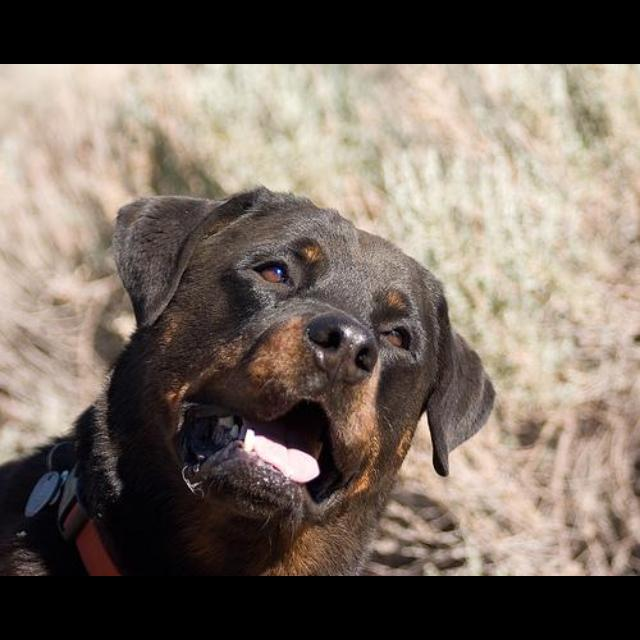rottweiler: (1, 185, 497, 576)
